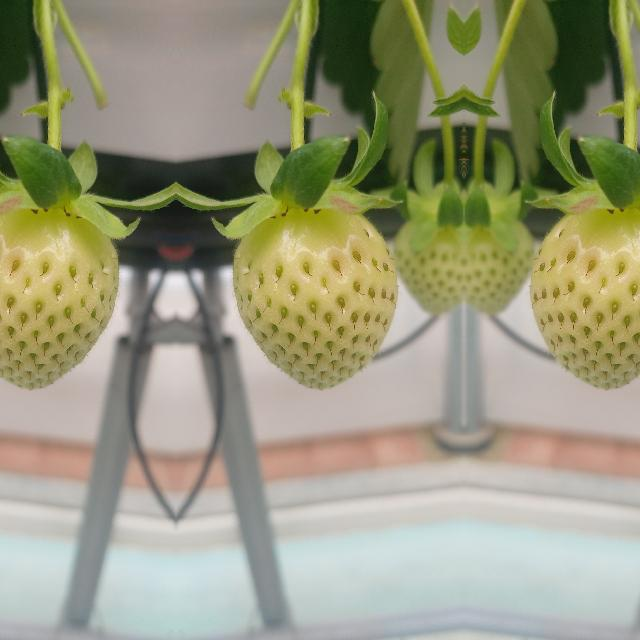Health_25: (232, 203, 396, 389), (0, 203, 118, 389), (529, 203, 640, 389)
